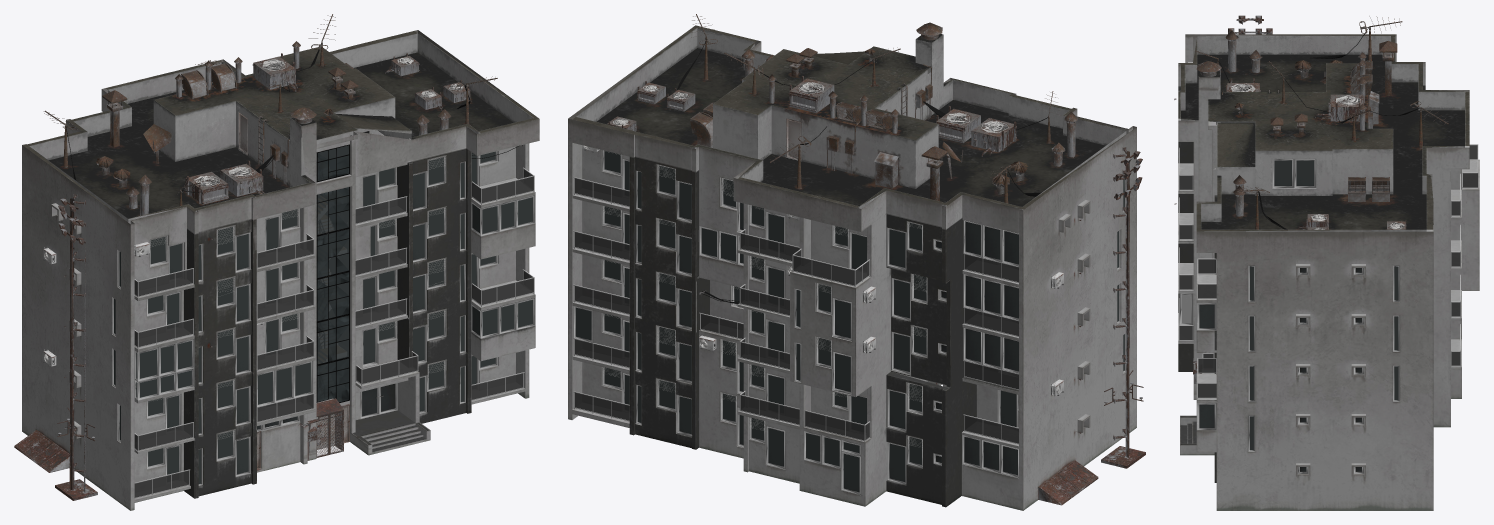
File: old-residential.glb
The picture shows the model from 3 angles, left to right: view 1: azimuth 30°, elevation 25°; view 2: azimuth 150°, elevation 25°; view 3: azimuth 270°, elevation 25°; orthographic projection. The views are drawn at different scales.
Parts seen in each view (by area): view 1: zgrada_base_uv_main_building_m_main_building_0, b1_doors_m_building_windows_0, zgrada2_krov_uv_roof_m_building_roof_0, b1_ac_details_m_building_details_0, b1_roof_details_m_roof_details_0; view 2: zgrada_base_uv_main_building_m_main_building_0, b1_doors_m_building_windows_0, zgrada2_krov_uv_roof_m_building_roof_0, b1_ac_details_m_building_details_0, b1_roof_details_m_roof_details_0; view 3: zgrada_base_uv_main_building_m_main_building_0, zgrada2_krov_uv_roof_m_building_roof_0, b1_doors_m_building_windows_0, b1_roof_details_m_roof_details_0, b1_ac_details_m_building_details_0.
Boxes of the visible parts, bbox=[...] form: zgrada_base_uv_main_building_m_main_building_0: bbox=[22, 30, 539, 510]; b1_doors_m_building_windows_0: bbox=[57, 112, 535, 498]; zgrada2_krov_uv_roof_m_building_roof_0: bbox=[23, 31, 538, 358]; b1_ac_details_m_building_details_0: bbox=[14, 53, 471, 500]; b1_roof_details_m_roof_details_0: bbox=[43, 14, 523, 215]; zgrada_base_uv_main_building_m_main_building_0: bbox=[568, 30, 1136, 510]; b1_doors_m_building_windows_0: bbox=[573, 109, 1125, 494]; zgrada2_krov_uv_roof_m_building_roof_0: bbox=[572, 25, 1132, 372]; b1_ac_details_m_building_details_0: bbox=[582, 76, 1145, 505]; b1_roof_details_m_roof_details_0: bbox=[677, 14, 1077, 303]; zgrada_base_uv_main_building_m_main_building_0: bbox=[1178, 34, 1479, 510]; zgrada2_krov_uv_roof_m_building_roof_0: bbox=[1178, 34, 1469, 231]; b1_doors_m_building_windows_0: bbox=[1179, 122, 1478, 473]; b1_roof_details_m_roof_details_0: bbox=[1195, 16, 1448, 229]; b1_ac_details_m_building_details_0: bbox=[1174, 15, 1406, 392].
Bounding box in the file's own units: 19.47 × 14.38 × 11.49.
5 materials, 5 textured.
